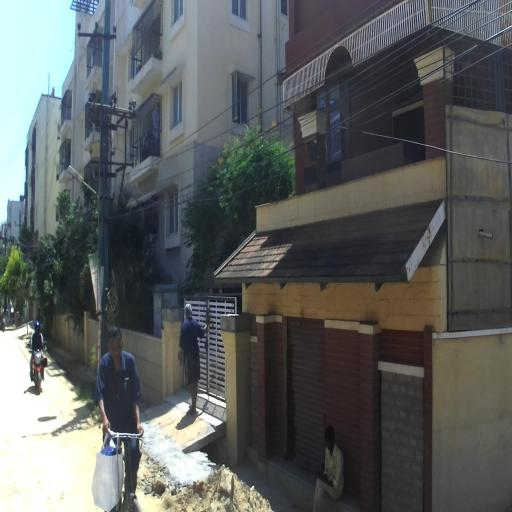street_light_0: (67, 165, 100, 202)
